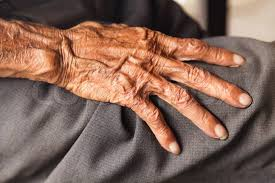hand: (41, 15, 257, 163)
